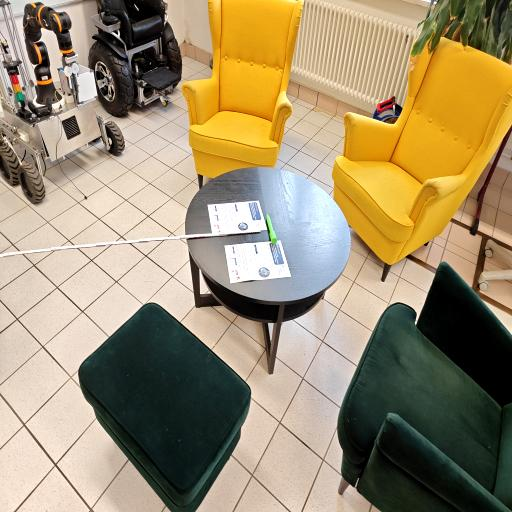Probe-Detection: (266, 214, 277, 244)
